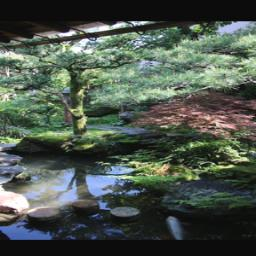Crow: (240, 173, 256, 237)
